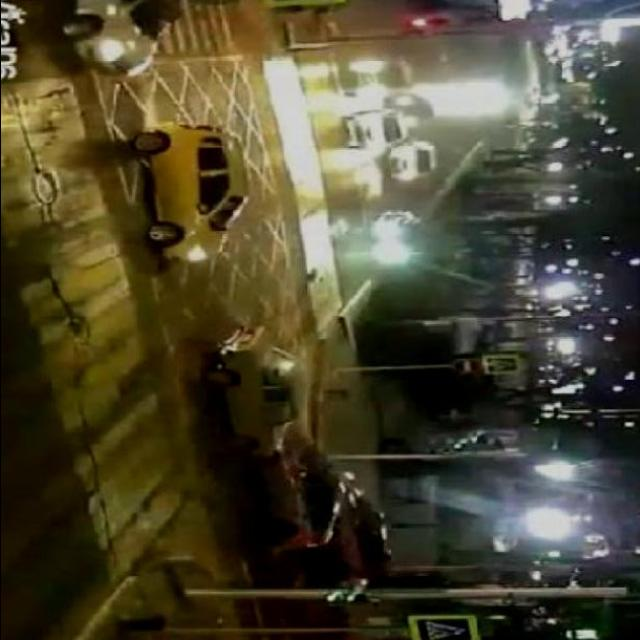accident: (204, 325, 344, 551)
